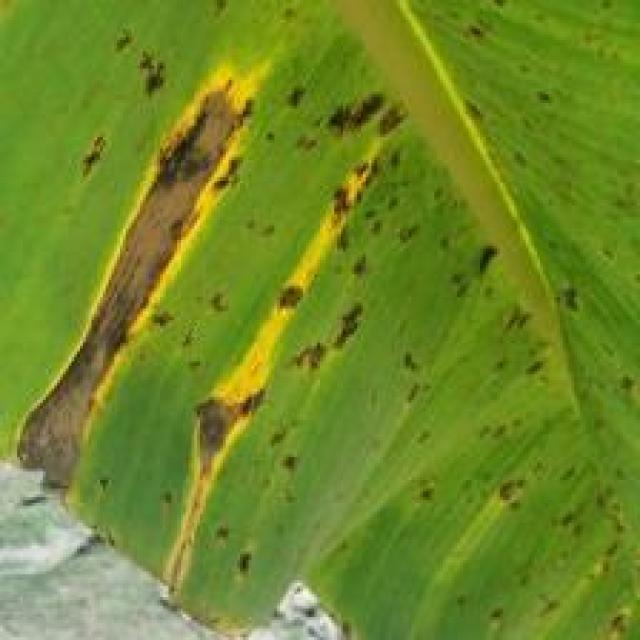Downey_mildrew: (6, 3, 637, 640)
